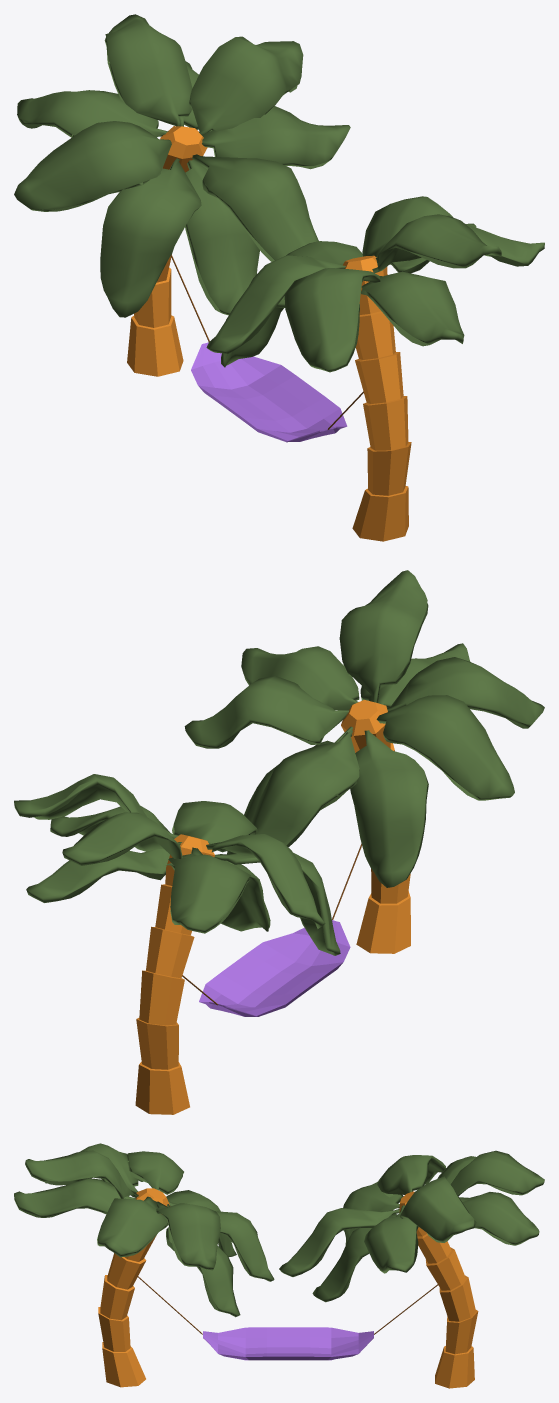
File: hammock.glb
3 views of the same model, one above another, from view 1: azimuth 30°, elevation 25°; view 2: azimuth 150°, elevation 25°; view 3: azimuth 270°, elevation 25° (orthographic). The views are drawn at different scales.
Parts seen in each view (by area): view 1: Trunk.001, Palm Frond.009, Palm Frond.007, Cloth, Palm Frond.002, Palm Frond.010, Palm Frond.008, Palm Frond.011, Palm Frond.005, Palm Frond.004, Trunk, Palm Frond.015 (+7 smaller); view 2: Trunk, Palm Frond.014, Palm Frond.013, Cloth, Palm Frond.003, Palm Frond.012, Palm Frond.017, Palm Frond.011, Trunk.001, Palm Frond.006, Palm Frond.016, Palm Frond.008 (+9 smaller); view 3: Trunk, Cloth, Trunk.001, Palm Frond.017, Palm Frond.016, Palm Frond.002, Palm Frond.015, Palm Frond.010, Palm Frond.008, Palm Frond.003, Palm Frond.001, Palm Frond.004 (+9 smaller).
Boxes of the visible parts, bbox=[...] form: Trunk.001: bbox=[343, 255, 411, 541]; Palm Frond.009: bbox=[100, 158, 201, 317]; Palm Frond.007: bbox=[14, 121, 171, 211]; Cloth: bbox=[191, 342, 347, 442]; Palm Frond.002: bbox=[189, 36, 303, 134]; Palm Frond.010: bbox=[192, 154, 318, 261]; Palm Frond.008: bbox=[104, 14, 192, 126]; Palm Frond.011: bbox=[284, 268, 380, 372]; Palm Frond.005: bbox=[185, 160, 259, 315]; Palm Frond.004: bbox=[201, 106, 350, 169]; Trunk: bbox=[127, 126, 207, 376]; Palm Frond.015: bbox=[361, 271, 464, 346]; Trunk: bbox=[135, 834, 214, 1114]; Palm Frond.014: bbox=[350, 730, 428, 887]; Palm Frond.013: bbox=[376, 695, 514, 800]; Cloth: bbox=[199, 920, 350, 1016]; Palm Frond.003: bbox=[339, 570, 428, 702]; Palm Frond.012: bbox=[252, 730, 359, 847]; Palm Frond.017: bbox=[184, 676, 349, 748]; Palm Frond.011: bbox=[387, 657, 544, 728]; Trunk.001: bbox=[341, 699, 410, 953]; Palm Frond.006: bbox=[166, 847, 250, 933]; Palm Frond.016: bbox=[241, 646, 359, 710]; Palm Frond.008: bbox=[62, 812, 182, 865]; Trunk: bbox=[399, 1191, 478, 1388]; Cloth: bbox=[203, 1327, 373, 1360]; Trunk.001: bbox=[98, 1188, 169, 1387]; Palm Frond.017: bbox=[156, 1201, 220, 1270]; Palm Frond.016: bbox=[97, 1196, 168, 1257]; Palm Frond.002: bbox=[400, 1176, 476, 1242]; Palm Frond.015: bbox=[14, 1178, 135, 1217]; Palm Frond.010: bbox=[279, 1208, 399, 1276]; Palm Frond.008: bbox=[450, 1150, 544, 1195]; Palm Frond.003: bbox=[25, 1150, 138, 1198]; Palm Frond.001: bbox=[459, 1192, 539, 1245]; Palm Frond.004: bbox=[364, 1205, 418, 1273].
Bounding box in the file's own units: 9.24 × 9.26 × 18.99.
